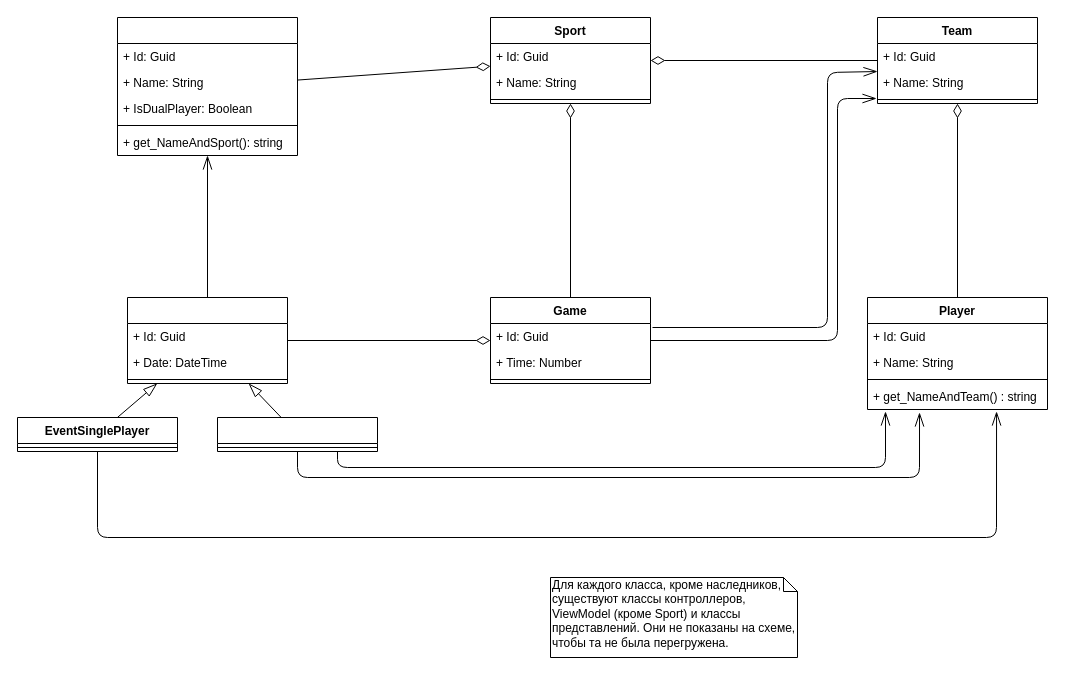
This 1065x675 diagram has some shape labels left out. Each missing label, with the box of its shape:
Event: (126, 296, 288, 384)
EventDualPlayer: (216, 416, 378, 452)
EventType: (116, 16, 298, 156)
